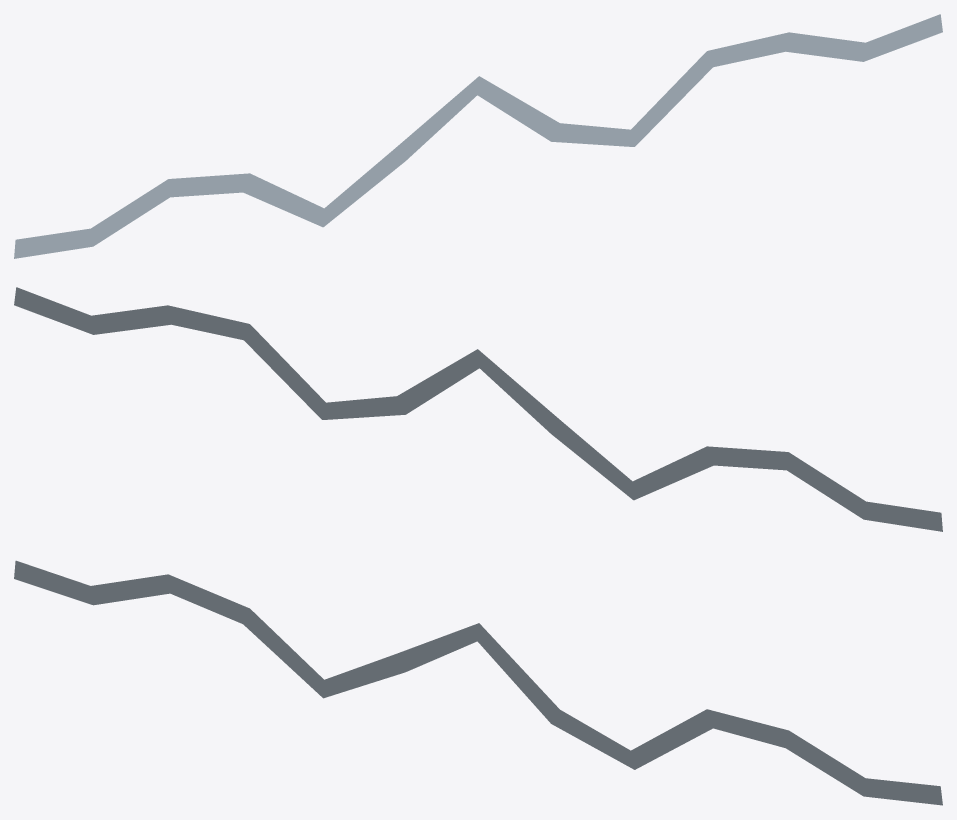
The model's file is 2065_LightningCage_Overall_CageArc_4_0.fbx.
The picture shows the model from 3 angles, top to bottom: view 1: azimuth 30°, elevation 25°; view 2: azimuth 150°, elevation 25°; view 3: azimuth 330°, elevation 25°; orthographic projection.
Parts seen in each view (by area): view 1: PART_CageArc_4_0; view 2: PART_CageArc_4_0; view 3: PART_CageArc_4_0.
Part boxes in pixels (x1,y1,x2,y2): PART_CageArc_4_0: [14, 14, 942, 258]; PART_CageArc_4_0: [14, 287, 942, 531]; PART_CageArc_4_0: [14, 560, 942, 805].
Size of the model in its own units: 123 by 14.39 by 2.34e-06.
